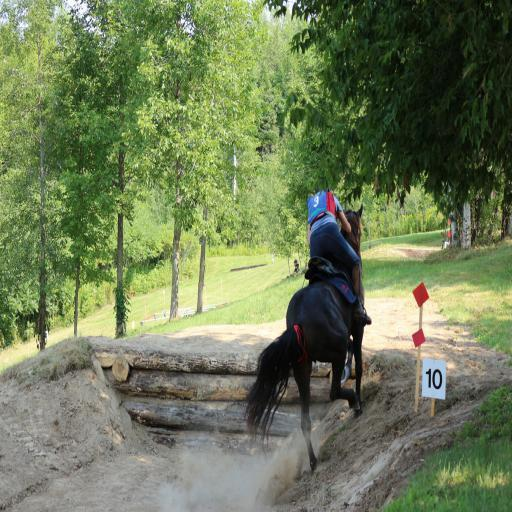horse: (243, 202, 365, 471)
